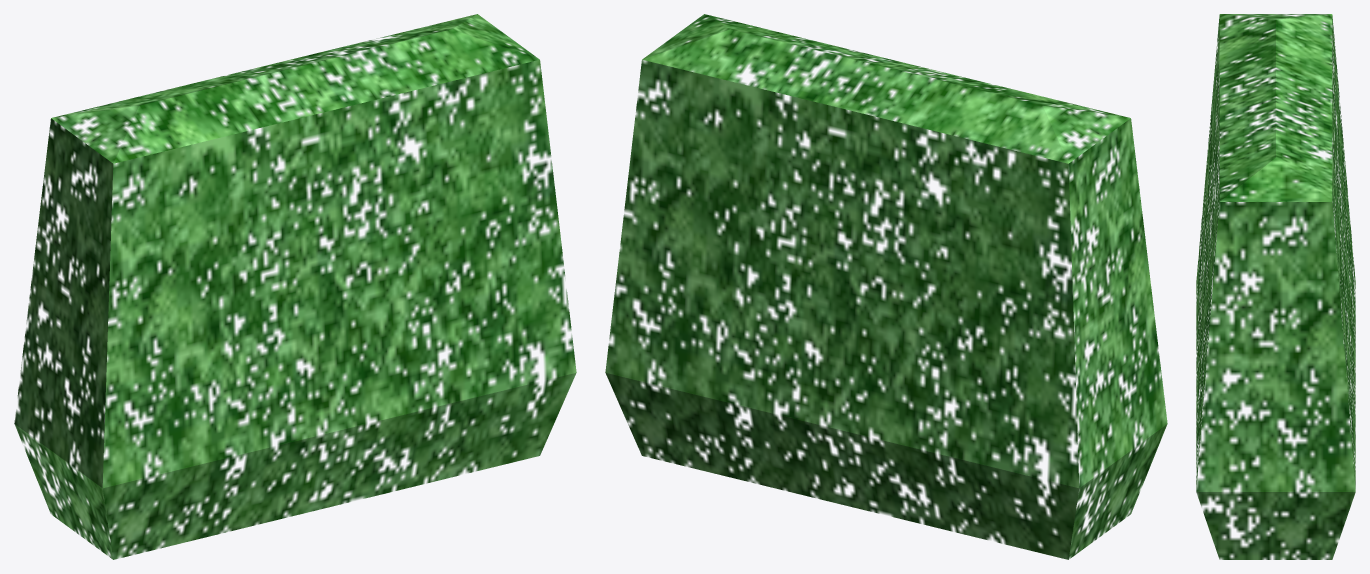
Rendered from bush_tall_single_spring.gltf.
3 views of the same model, side by side, from view 1: azimuth 30°, elevation 25°; view 2: azimuth 150°, elevation 25°; view 3: azimuth 270°, elevation 25° (orthographic). The views are drawn at different scales.
Parts seen in each view (by area): view 1: bush_tall_single_spring2; view 2: bush_tall_single_spring2; view 3: bush_tall_single_spring2.
Part boxes in pixels (<box>): bush_tall_single_spring2: <box>14,14,576,559</box>; bush_tall_single_spring2: <box>605,14,1167,559</box>; bush_tall_single_spring2: <box>1196,14,1355,559</box>.
Bounding box in the file's own units: 2.23 × 1.88 × 0.7191.
1 material, 1 textured.
